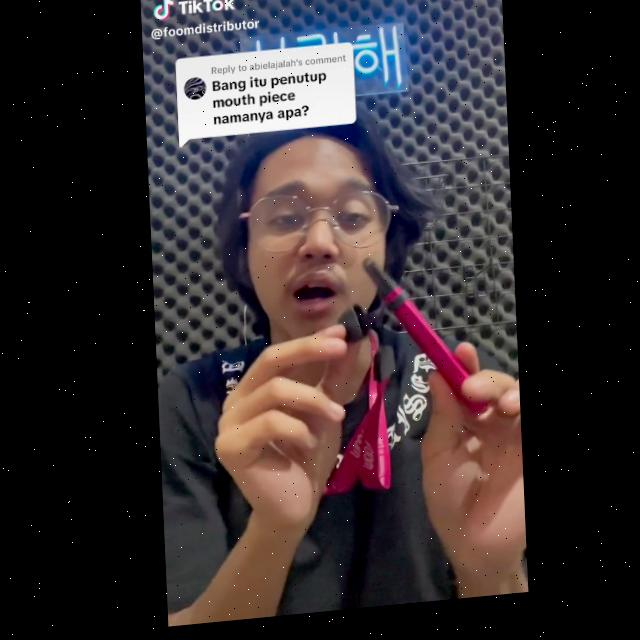vape: (357, 255, 487, 429)
